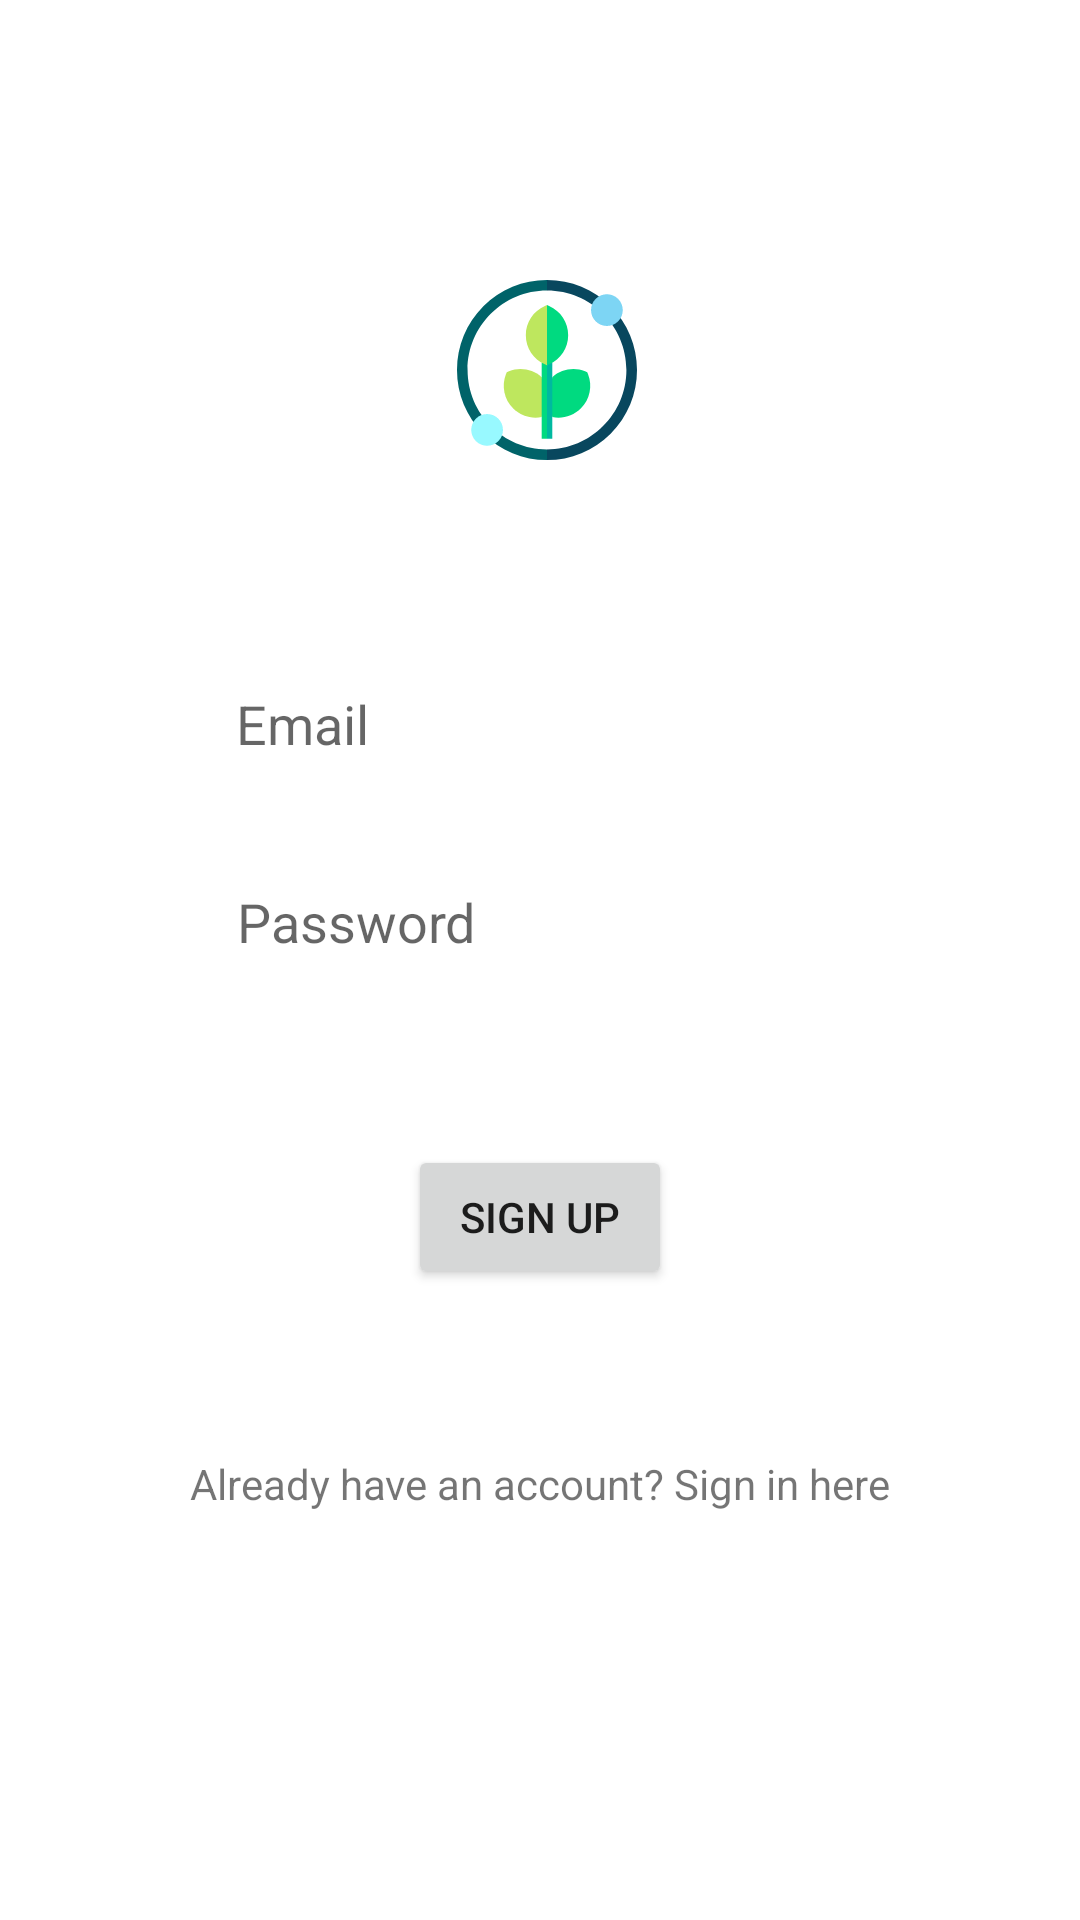

Named icons in this screenshot (1080*1920) and their bounding boxes, box(x1, y1, x2, y2):
agronomy: box(457, 280, 637, 460)
